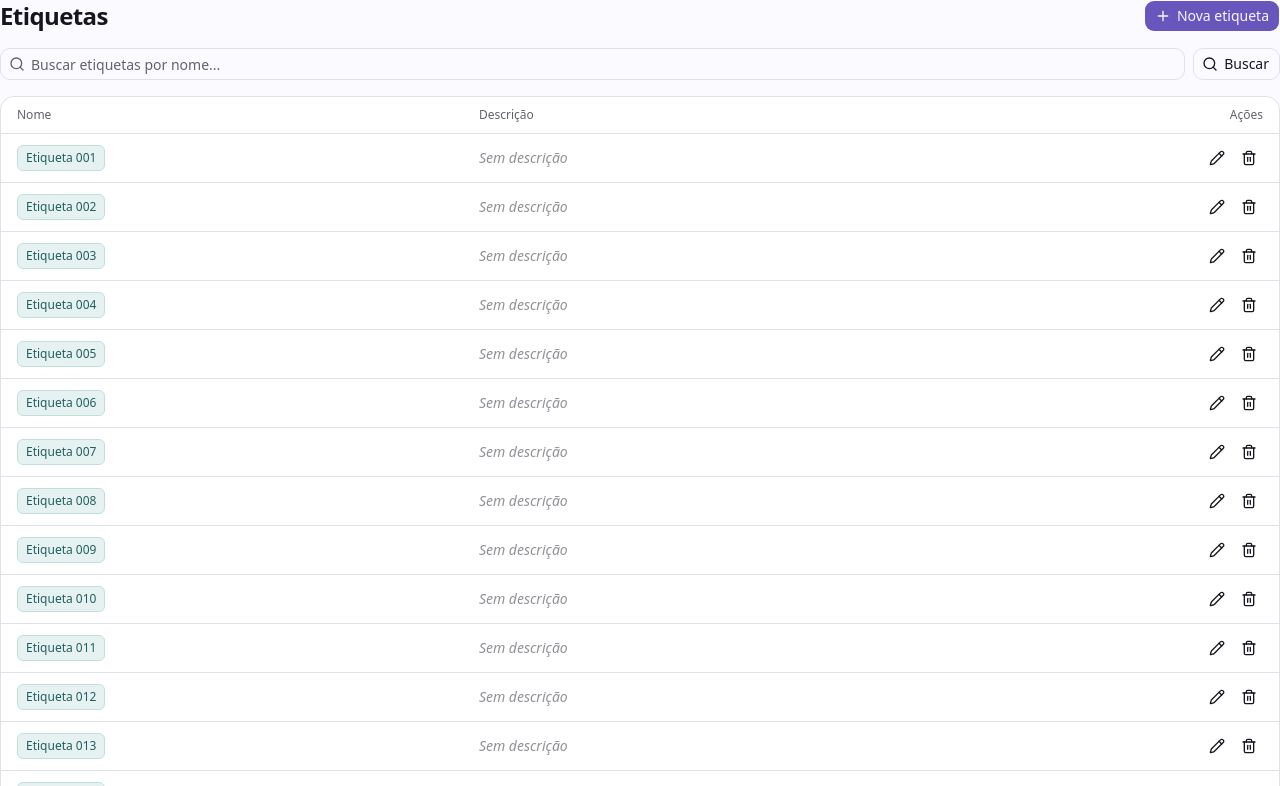
Test case: TagListPage › paging › has no controls when a search finds nothing
Check: the text "Etiqueta 001" is shown, box [17,145,106,171]
Type "zzz" into the field labelled "Buscar etiquetas por nome" at (605, 64), box [25,48,1184,80]
Then press Enter
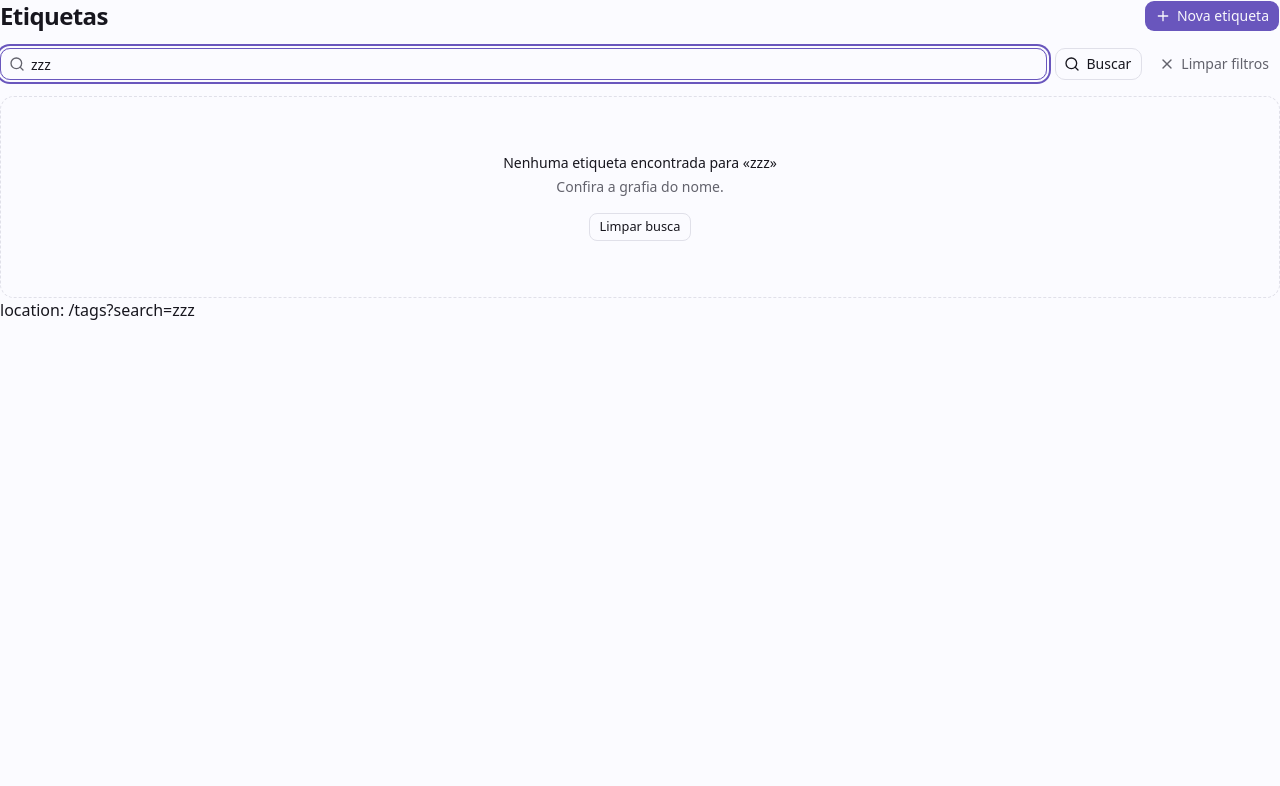
Check: the text "Nenhuma etiqueta encontrada para «zzz»" is shown, box [503,153,777,172]
